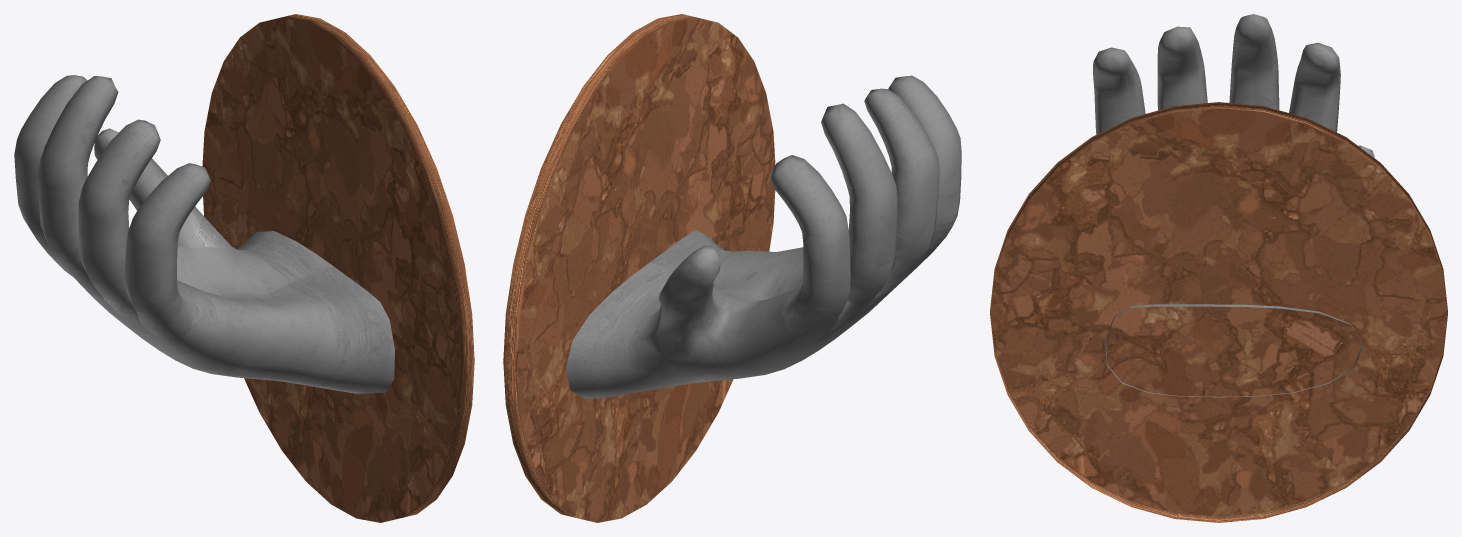
Rendered from рука.fbx.
3 views of the same model, side by side, from view 1: azimuth 30°, elevation 25°; view 2: azimuth 150°, elevation 25°; view 3: azimuth 270°, elevation 25° (orthographic). The views are drawn at different scales.
Parts seen in each view (by area): view 1: Cylinder; view 2: Cylinder; view 3: Cylinder.
Part boxes in pixels (x1,y1,x2,y2): Cylinder: [14, 14, 474, 522]; Cylinder: [503, 14, 961, 522]; Cylinder: [990, 14, 1447, 522].
Bounding box in the file's own units: 1183 × 1870 × 1870.
1 material, 1 textured.
